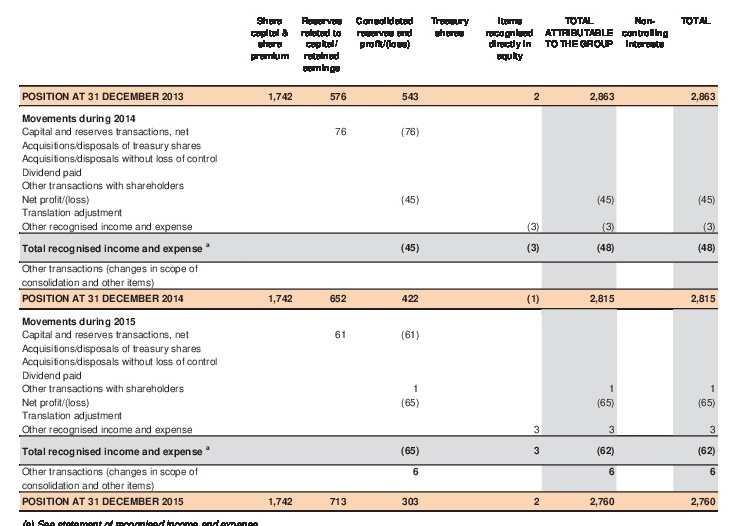table: (0, 0, 732, 526)
